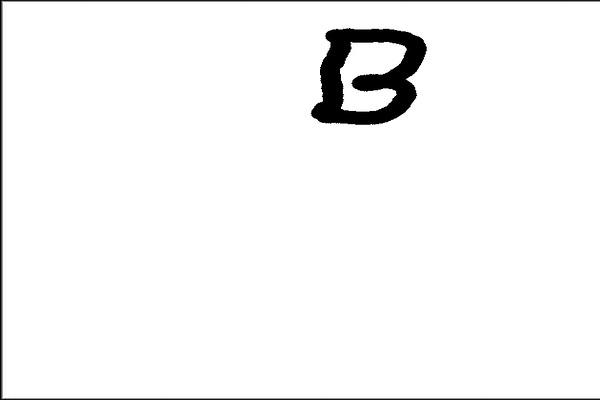B: (302, 17, 431, 131)
